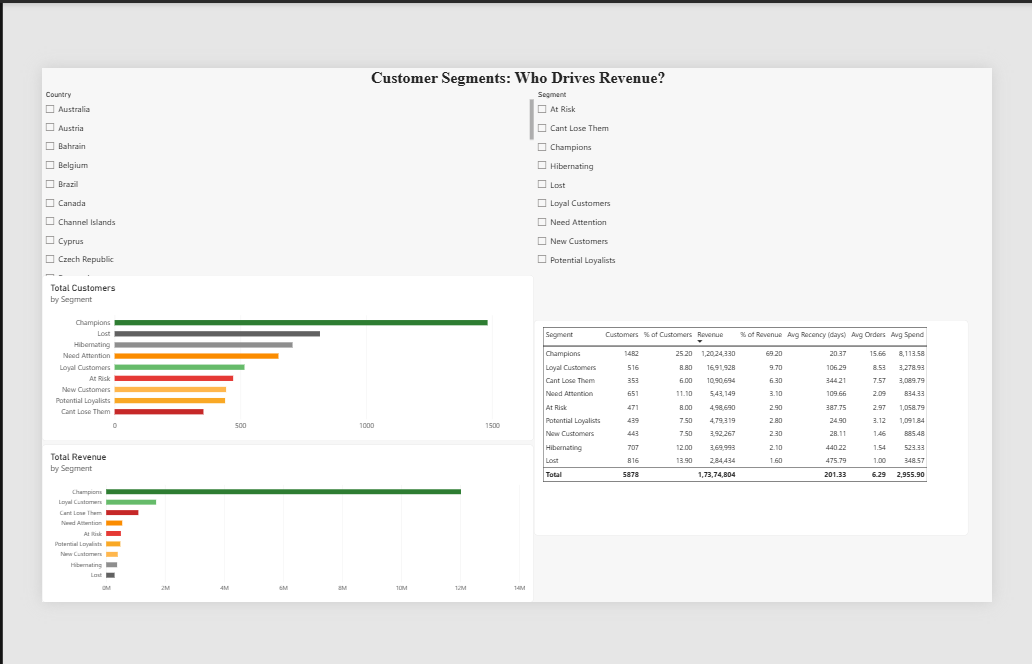

Layout of this report page (visuals, bound fields, positions):
{"tool":"powerbi","page":{"name":"Segments","canvas":[1920,1080],"ordinal":1},"visuals":[{"type":"clusteredBarChart","fields":{"Category":["rfm_segments.Segment"],"Y":["rfm_segments.Total Revenue"]},"box":[0,761.3,993.5,319.4],"z":0},{"type":"tableEx","fields":{"Values":["rfm_segments.Segment","rfm_segments.Total Customers","segment_summary.Customer_%","rfm_segments.Total Revenue","segment_summary.Revenue_%","Avg(rfm_segments.Recency)","Avg(rfm_segments.Frequency)","Avg(rfm_segments.Monetary)"]},"box":[993.5,509.7,877.4,435.5],"z":1000},{"type":"clusteredBarChart","fields":{"Category":["rfm_segments.Segment"],"Y":["rfm_segments.Total Customers"]},"box":[0,419.4,993.5,335.5],"z":2000},{"type":"slicer","fields":{"Values":["rfm_segments.Country"]},"box":[0,45.2,993.5,374.2],"z":3000},{"type":"slicer","fields":{"Values":["rfm_segments.Segment"]},"box":[993.5,45.2,925.8,390.3],"z":4000},{"type":"textbox","box":[0,0,1919.4,45.2],"z":5000}]}

Visuals, with their boxes on the page's 1920x1080 design canvas (x1, y1, x2, y2). These are canvas units, not pixel positions in the 1032x664 screenshot, which may show the page scaled, cropped or inside an application window:
clusteredBarChart - rfm_segments.Segment x rfm_segments.Total Revenue: left=0, top=761, right=994, bottom=1081
tableEx - rfm_segments.Segment x rfm_segments.Total Customers: left=994, top=510, right=1871, bottom=945
clusteredBarChart - rfm_segments.Segment x rfm_segments.Total Customers: left=0, top=419, right=994, bottom=755
slicer - rfm_segments.Country: left=0, top=45, right=994, bottom=419
slicer - rfm_segments.Segment: left=994, top=45, right=1919, bottom=436
textbox: left=0, top=0, right=1919, bottom=45
